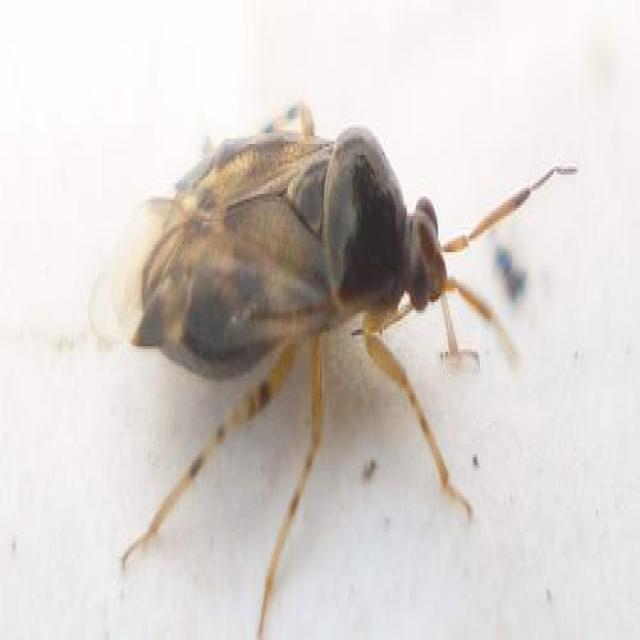Miridae-Adult-: (105, 97, 594, 556)
